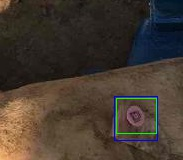text: (116, 98, 156, 133)
